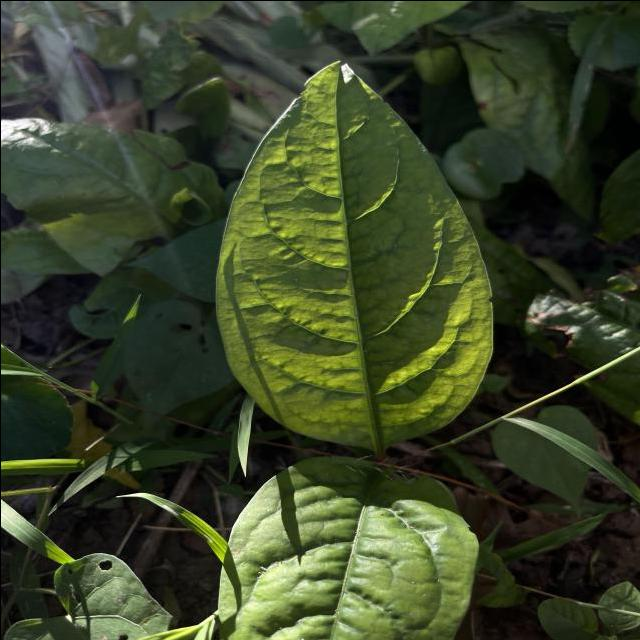Plumbago indica: (210, 51, 504, 451)
